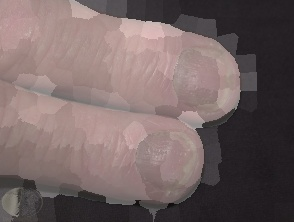Nail_psoriasis: (156, 28, 250, 122), (129, 126, 202, 207)
